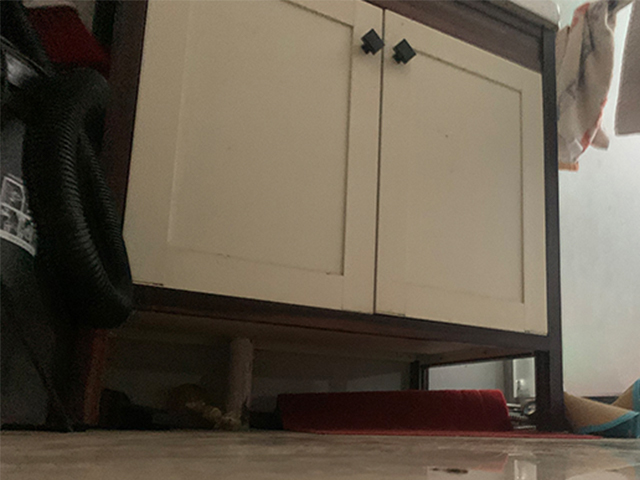cabinet: (56, 2, 570, 434)
carpet: (270, 388, 601, 441)
